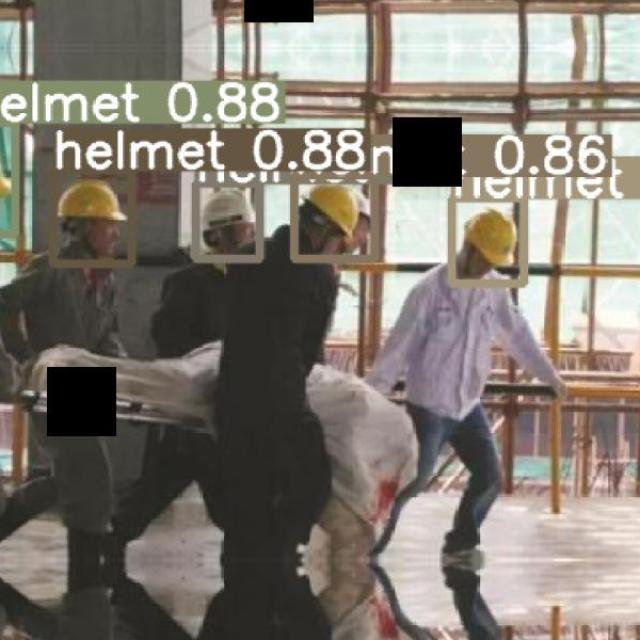helmet: (304, 183, 362, 237), (463, 208, 516, 267), (56, 179, 127, 222), (200, 186, 255, 232), (0, 136, 11, 200)
